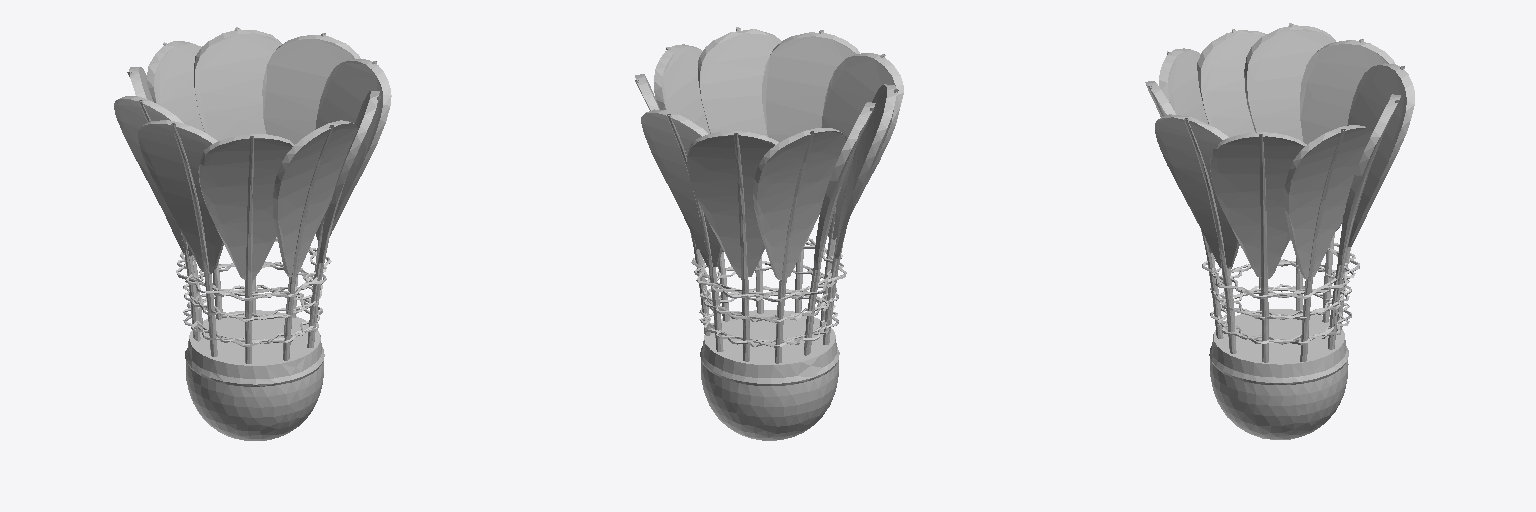
File: ball.OBJ
3 views of the same model, side by side, from view 1: azimuth 30°, elevation 25°; view 2: azimuth 150°, elevation 25°; view 3: azimuth 270°, elevation 25° (orthographic).
Parts seen in each view (by area): view 1: Group15894; view 2: Group15894; view 3: Group15894.
Part boxes in pixels (left/top/right/bottom): Group15894: left=114, top=27, right=391, bottom=440; Group15894: left=635, top=27, right=903, bottom=440; Group15894: left=1145, top=23, right=1414, bottom=439.
Size of the model in its own units: 0.642 by 0.9242 by 0.6357.